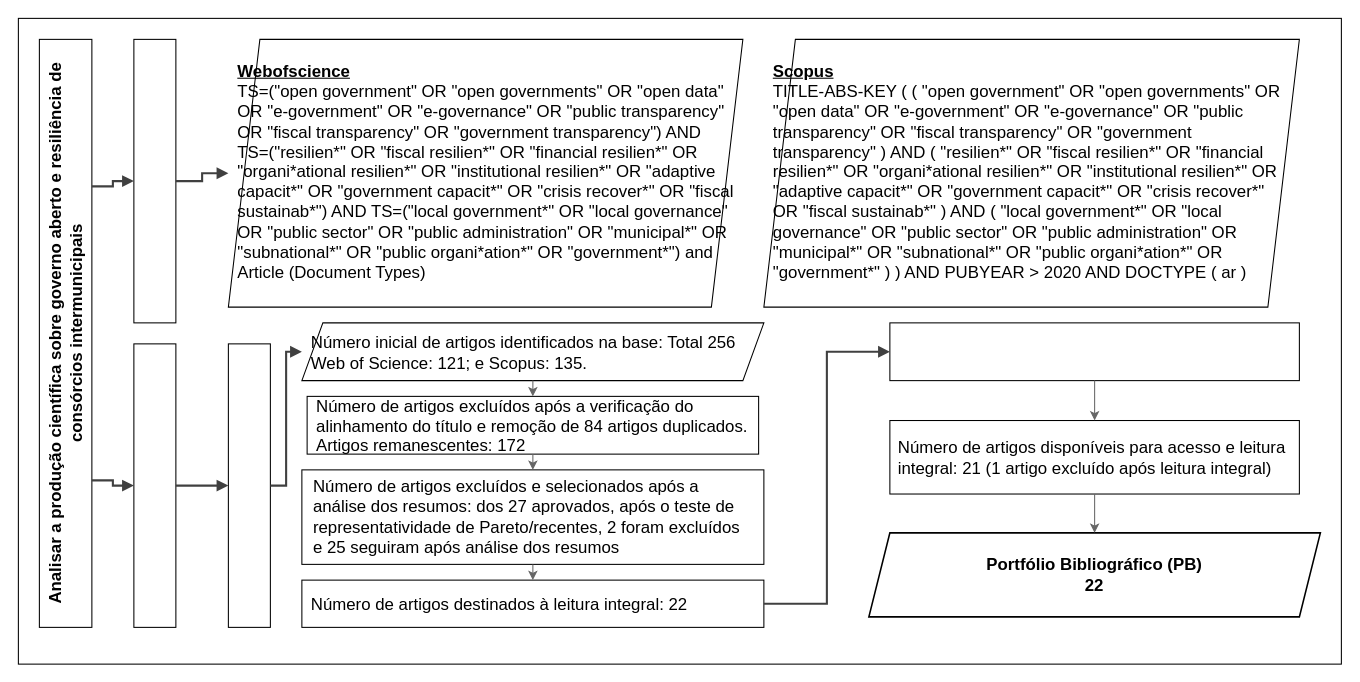
The diagram is 1360 pixels wide and 682 high, and some of its shapes have lost their labels. The centre of each missing label's shape, as x and y in pixels:
"ENTRADAS" goes at [154,180].
"Filtragem do banco de dados" goes at [248,485].
"Número de artigos que não puderam ser acessados integralmente: 3" goes at [1094,351].
"RESULTADOS" goes at [154,485].
